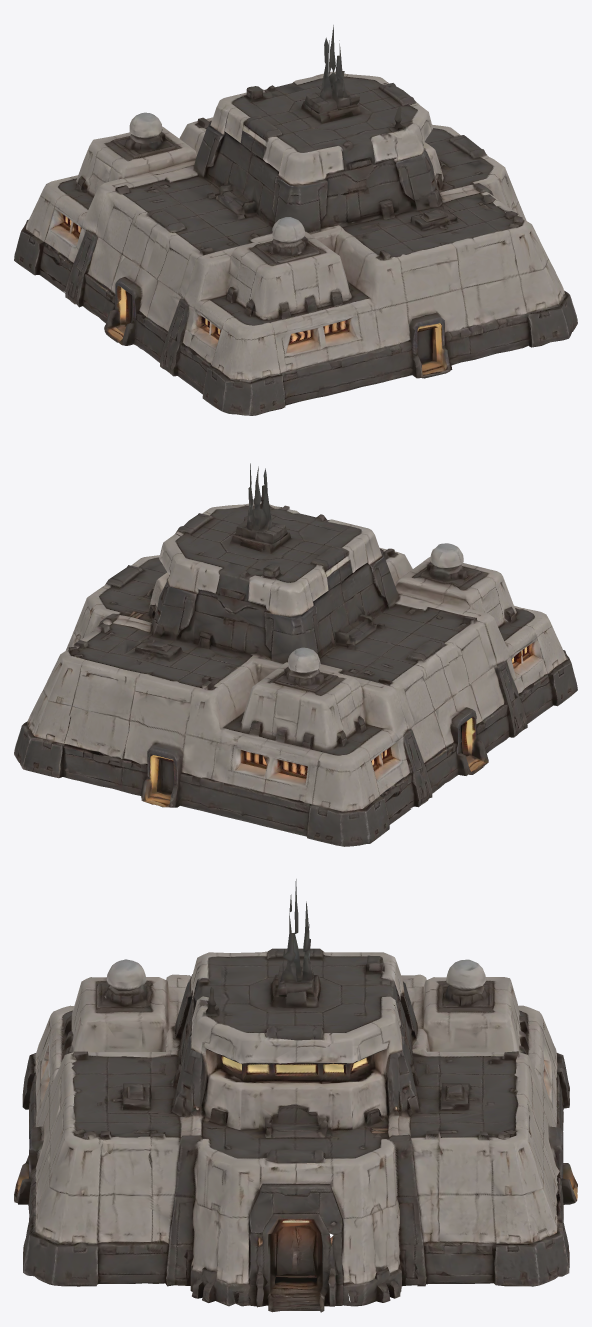
Rendered from commandBunker.glb.
The picture shows the model from 3 angles, top to bottom: view 1: azimuth 30°, elevation 25°; view 2: azimuth 150°, elevation 25°; view 3: azimuth 270°, elevation 25°; orthographic projection. The views are drawn at different scales.
Visible parts, largest first — view 1: commandBunker; view 2: commandBunker; view 3: commandBunker.
Boxes of the visible parts, x1,y1,x2,y2 form: commandBunker: (14,25,577,415); commandBunker: (14,463,577,846); commandBunker: (14,879,577,1312).
Size of the model in its own units: 29.9 by 19.1 by 30.
Materials: 1 (1 with a texture image).
